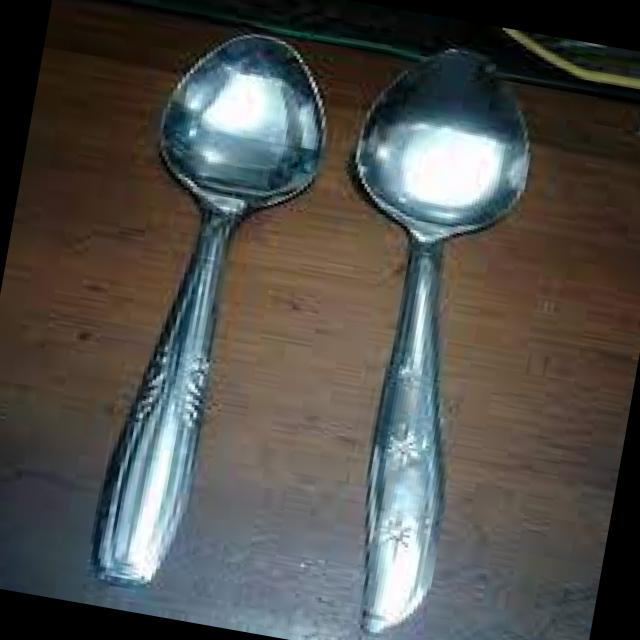spoon: (275, 32, 571, 640)
